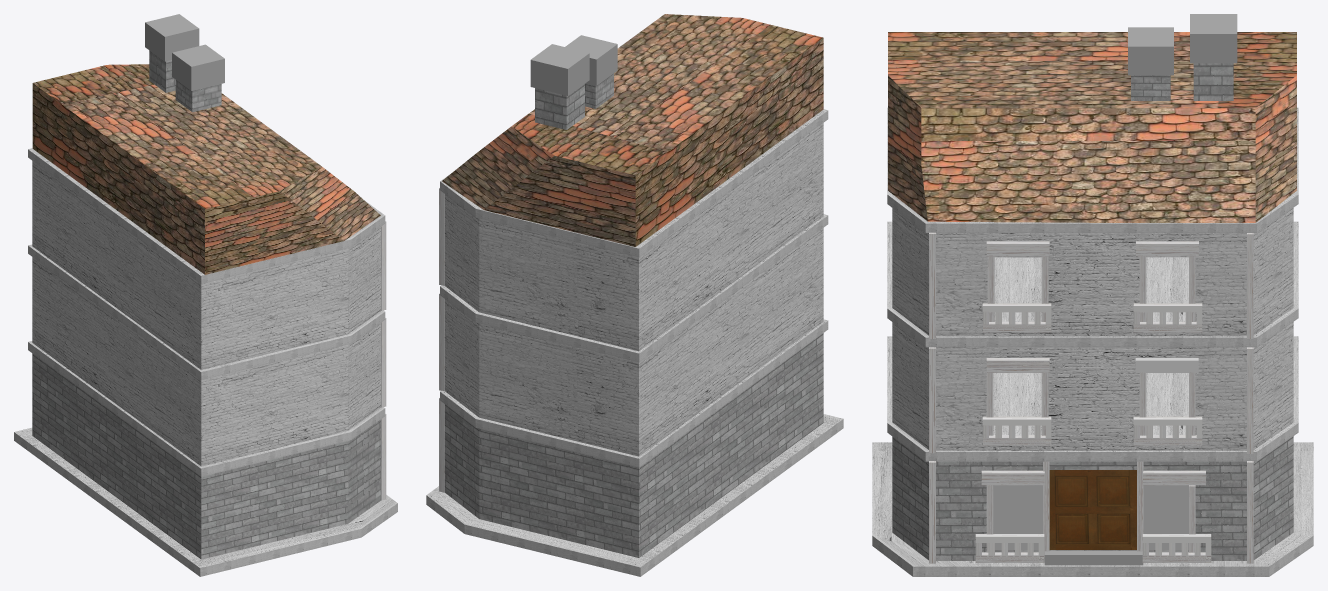
File: City house2.fbx
3 views of the same model, side by side, from view 1: azimuth 30°, elevation 25°; view 2: azimuth 150°, elevation 25°; view 3: azimuth 270°, elevation 25° (orthographic). The views are drawn at different scales.
Parts seen in each view (by area): view 1: Cube, Cube.001, Cube.002, Cube.003, Cube.005, Cube.006, Cube.004, Cube.042, Cube.010, Cube.009, Cube.008, Cube.007 (+3 smaller); view 2: Cube, Cube.001, Cube.002, Cube.003, Cube.005, Cube.006, Cube.042, Cube.004, Cube.009, Cube.007, Cube.010, Cube.008 (+3 smaller); view 3: Cube, Cube.001, Cube.002, Cube.003, Cube.005, Cube.004, Cube.042, Plane, Cube.006, Plane.002, Plane.001, Cube.009 (+24 smaller).
Boxes of the visible parts, x1,y1,x2,y2 form: Cube: (32,64,380,274); Cube.001: (32,257,380,466); Cube.002: (32,161,380,369); Cube.003: (32,353,380,559); Cube.005: (14,427,397,576); Cube.006: (28,148,385,283); Cube.004: (28,244,385,380); Cube.042: (28,341,385,476); Cube.010: (172,44,224,90); Cube.009: (145,14,199,61); Cube.008: (175,80,221,112); Cube.007: (149,50,175,92); Cube: (442,14,823,246); Cube.001: (444,228,823,456); Cube.002: (444,123,823,351); Cube.003: (444,333,823,557); Cube.005: (426,414,843,576); Cube.006: (440,109,828,257); Cube.042: (440,319,828,467); Cube.004: (440,214,828,362); Cube.009: (530,44,589,95); Cube.007: (535,84,584,129); Cube.010: (565,35,617,85); Cube.008: (585,73,613,108); Cube: (888,32,1296,222); Cube.001: (892,322,1293,450); Cube.002: (892,208,1293,336); Cube.003: (892,436,1293,560); Cube.005: (872,442,1313,576); Cube.004: (887,221,1298,347); Cube.042: (887,336,1298,461); Plane: (1049,470,1136,549); Cube.006: (887,107,1298,232); Plane.002: (993,485,1042,549); Plane.001: (1143,485,1188,549); Cube.009: (1190,14,1237,63).
Size of the model in its own units: 6474 by 12021 by 9706.
